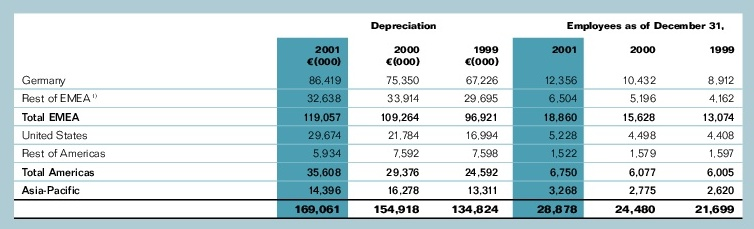table: (0, 0, 754, 229)
